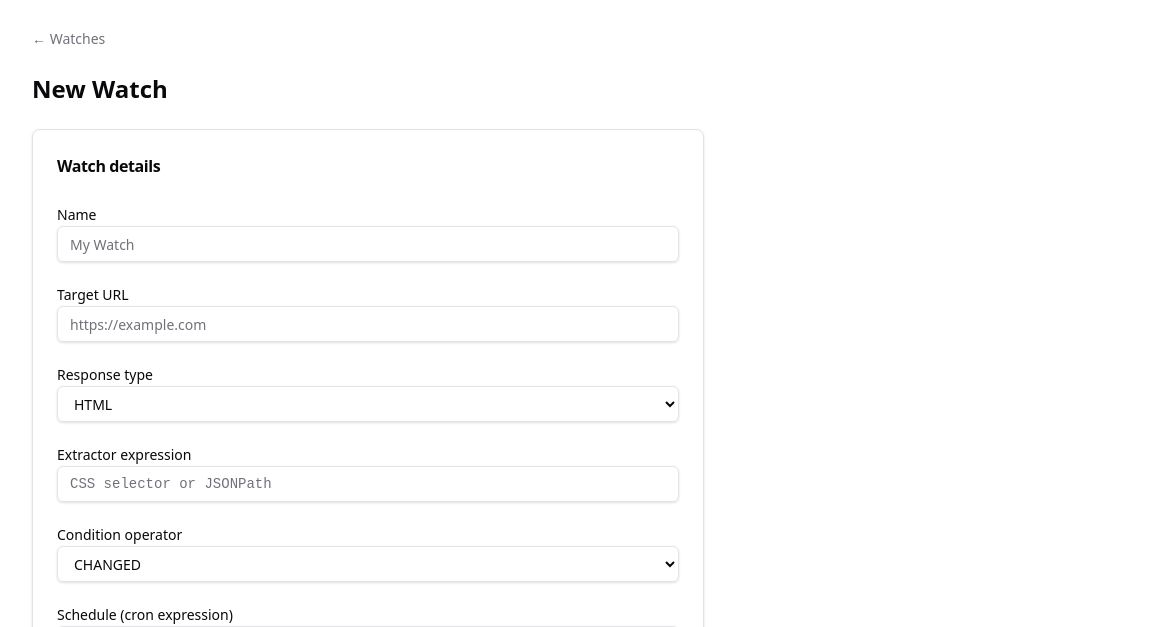
Scenario: Create Watch page › shows expected value field when EQUALS is selected
Select "EQUALS" in the dropdown labelled "Condition operator": (368, 564) 57,546 -> 679,582
(page scrolled)
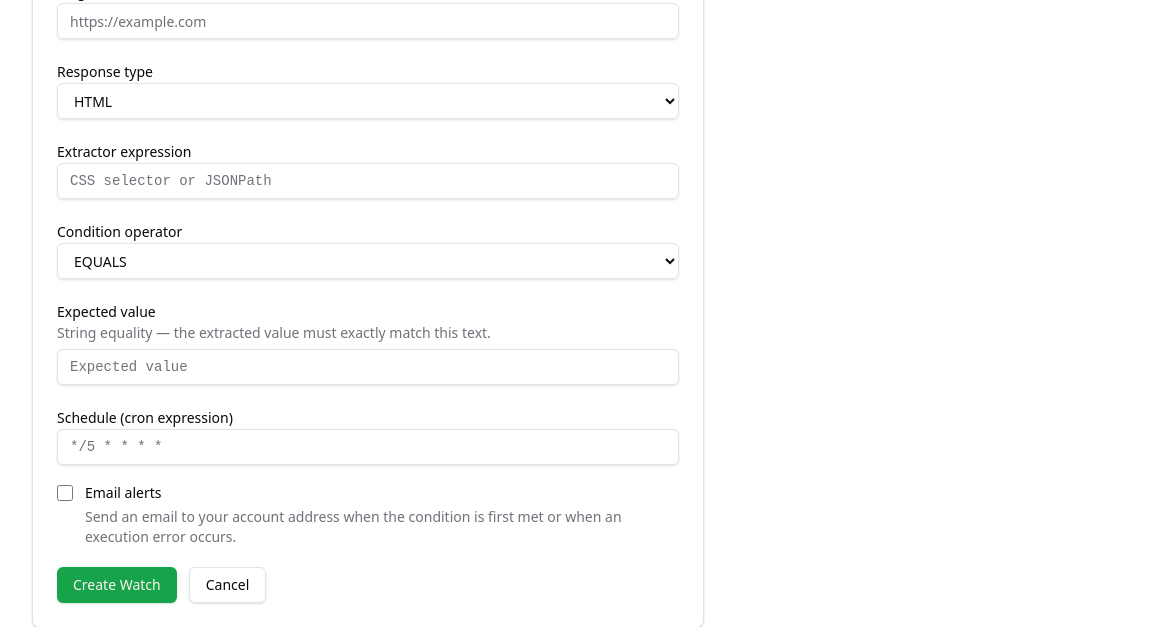
Check: the field labelled "Expected value" is shown, box 57,349 -> 679,385
